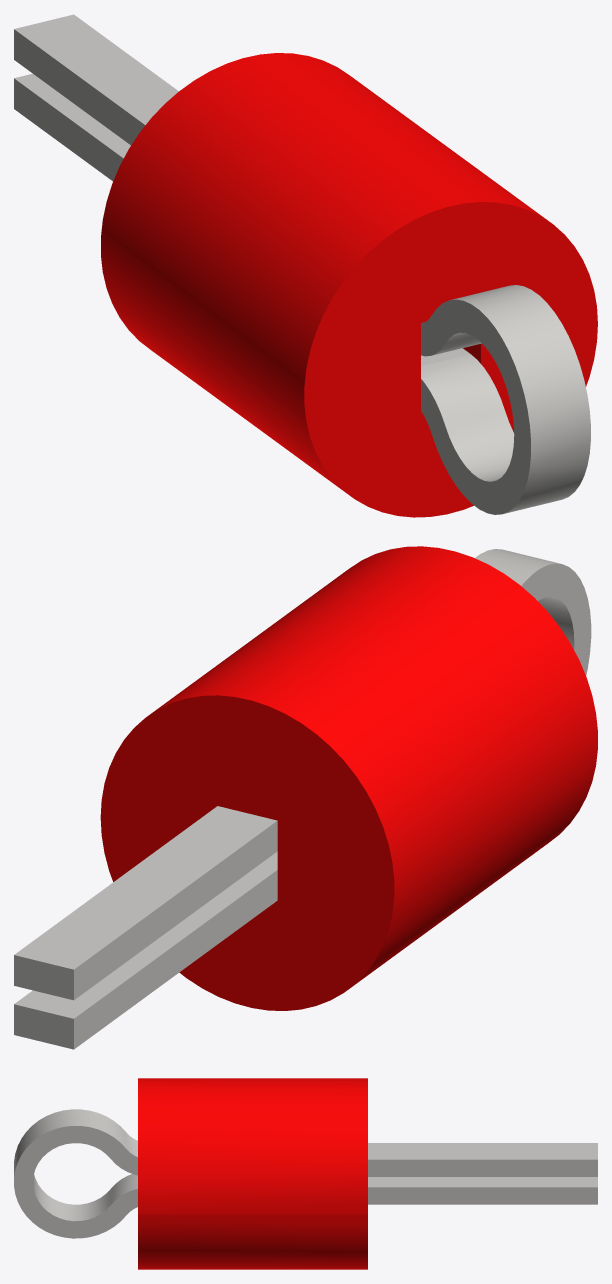
The picture shows the model from 3 angles, top to bottom: view 1: azimuth 30°, elevation 25°; view 2: azimuth 150°, elevation 25°; view 3: azimuth 270°, elevation 25°; orthographic projection. The views are drawn at different scales.
Visible parts, largest first — view 1: Keystone5000_red, Keystone500x_wire; view 2: Keystone5000_red, Keystone500x_wire; view 3: Keystone5000_red, Keystone500x_wire.
Part boxes in pixels (x1,y1,x2,y2): Keystone5000_red: (101, 53, 597, 517); Keystone500x_wire: (14, 14, 590, 514); Keystone5000_red: (100, 546, 597, 1010); Keystone500x_wire: (14, 549, 591, 1049); Keystone5000_red: (138, 1078, 367, 1269); Keystone500x_wire: (14, 1109, 597, 1238).
Bounding box in the file's own units: 2.5 × 2.5 × 7.62.
